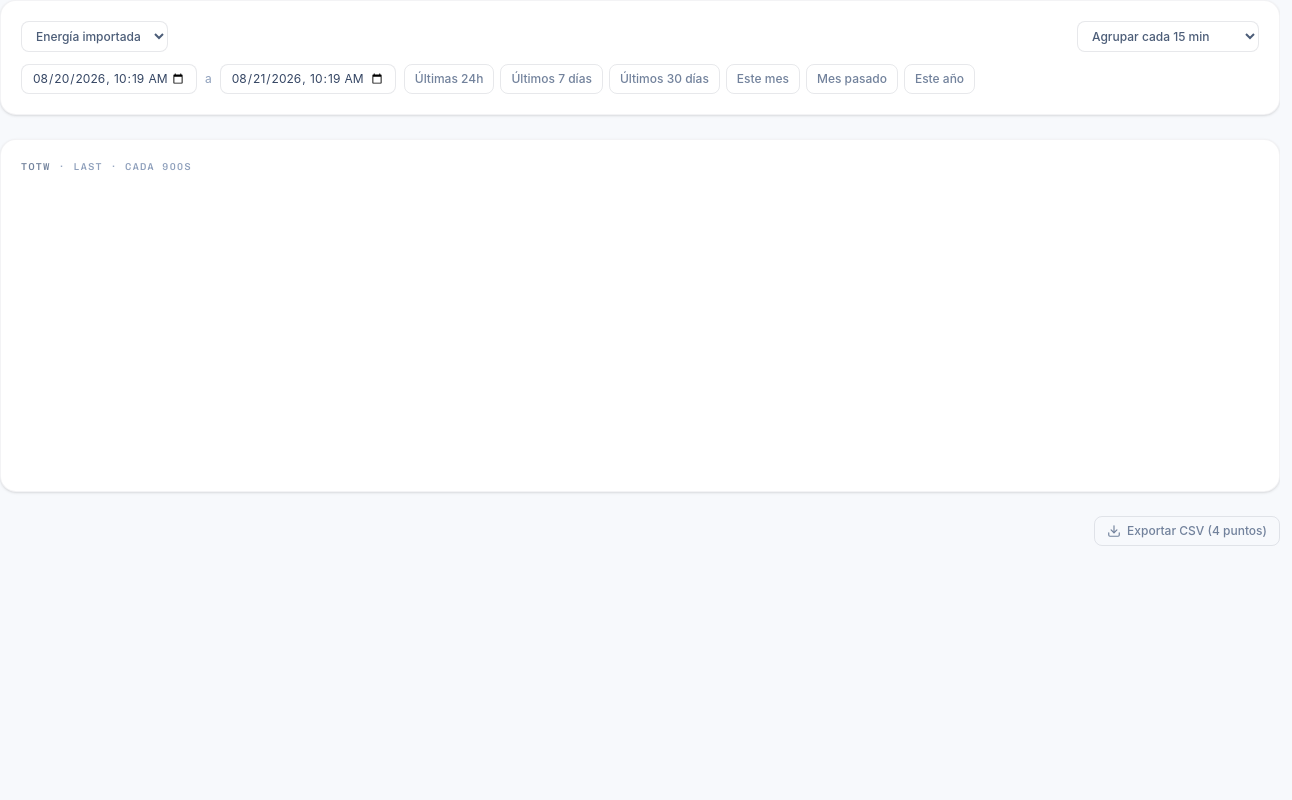
Test: los techos de rango › un segundo sobre 24 h se rechaza acá y se dice por qué
Select "Agrupar cada 1 segundo" in the dropdown titled "Agrupar cada" at (1168, 36), box left=1077, top=21, right=1259, bottom=52
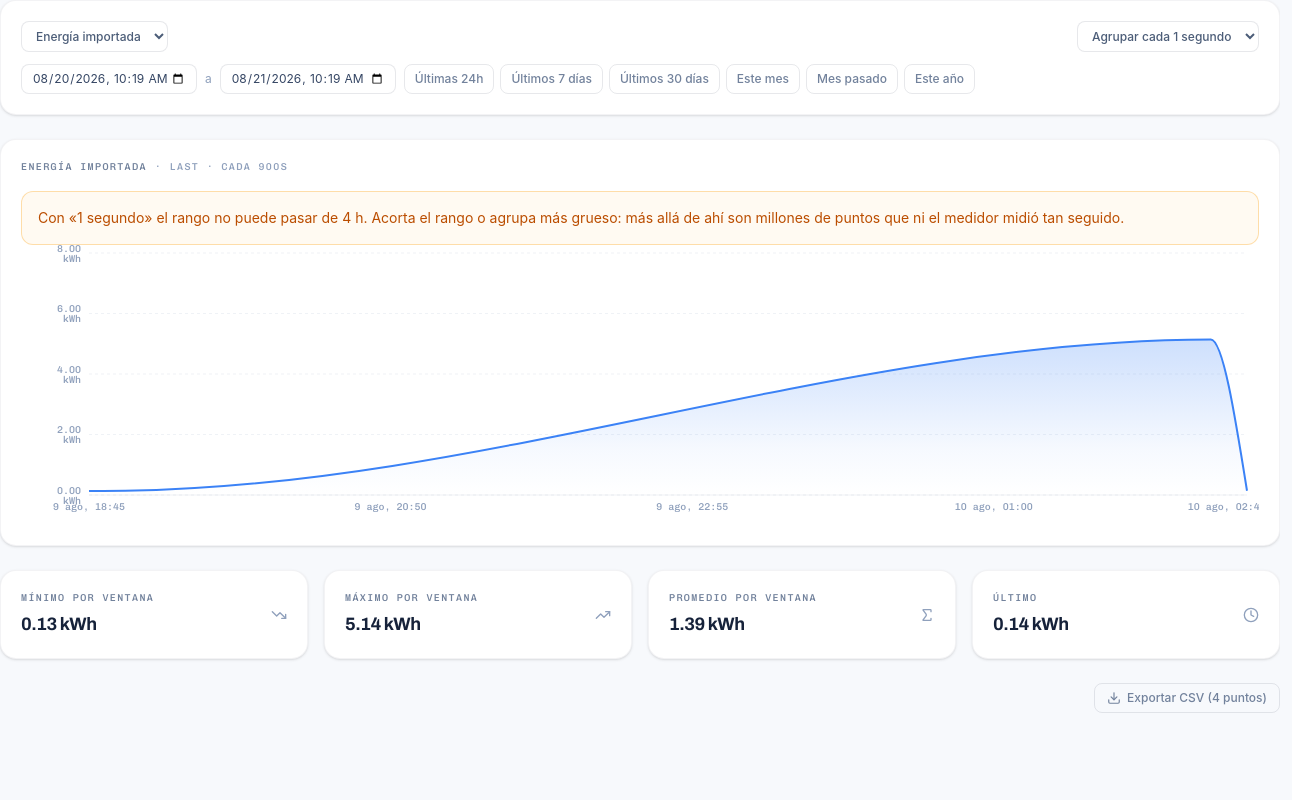
Check: the text "no puede pasar de" is shown, box left=144, top=209, right=338, bottom=226
